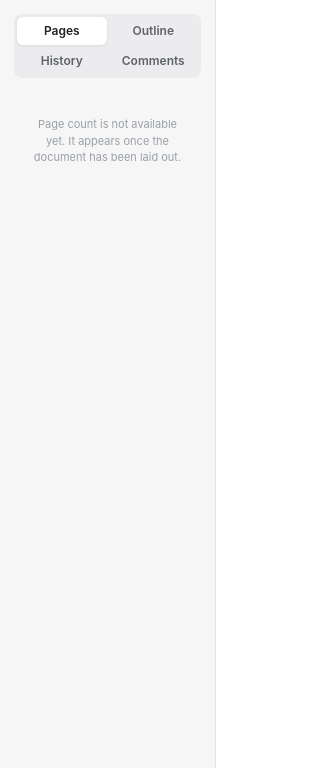
Test: EditorSidebar › clicking the History pill switches sidebarTab and renders the History tab
Click the button "History". click: (62, 61)
box: top-left (17, 47), bottom-right (106, 75)
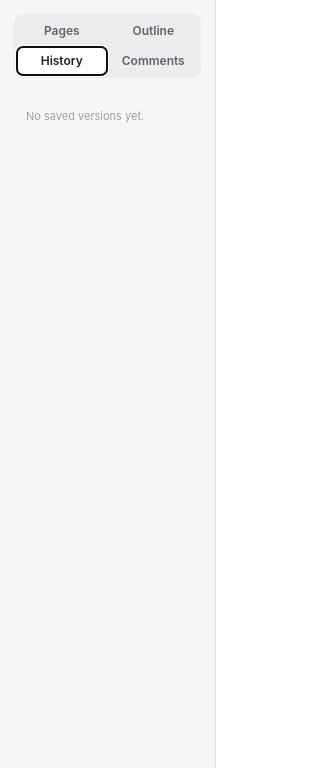
Expected: the text "No saved versions yet." is shown, top-left (26, 109), bottom-right (144, 123)
